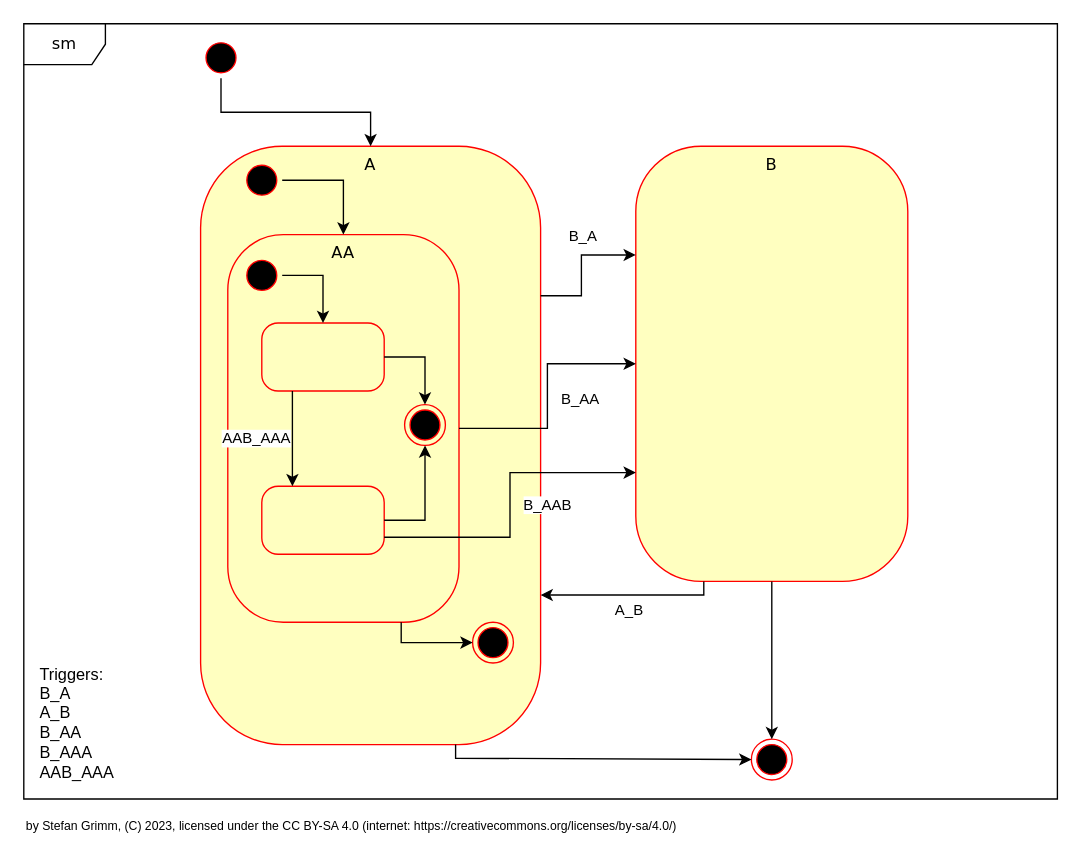
This 1081x864 diagram has some shape labels left out. Here are the shapes that lost their labels. From the top down, the centre of each, then its label:
pixel 322 356: AAA
pixel 322 519: AAB
